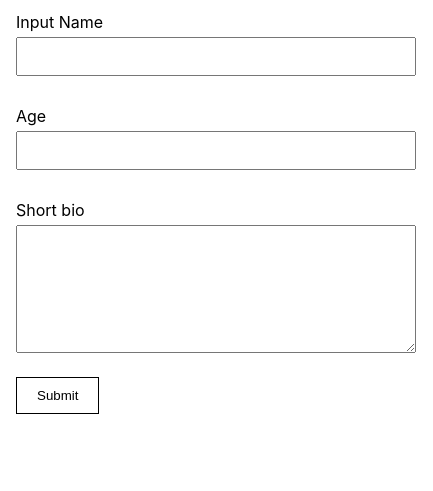
Test case: #Add Student Form › #submit › should showing error message on form submit
Click the button named "addStudent".
click(58, 396)  # box x1=16 y1=377 x2=100 y2=414
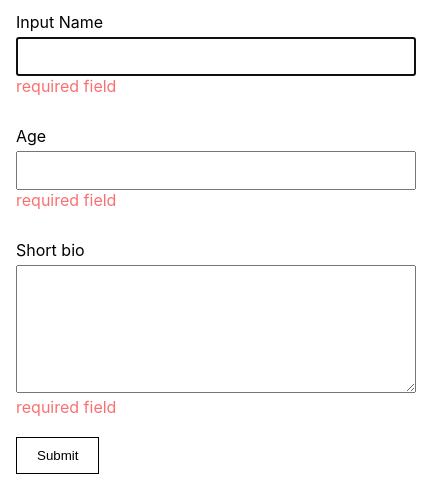
Now the text "required field" is shown 3 times, box x1=16 y1=76 x2=116 y2=96; x1=16 y1=190 x2=116 y2=210; x1=16 y1=397 x2=116 y2=417
